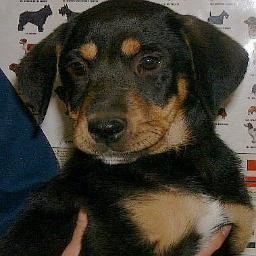dog: (20, 2, 250, 251)
